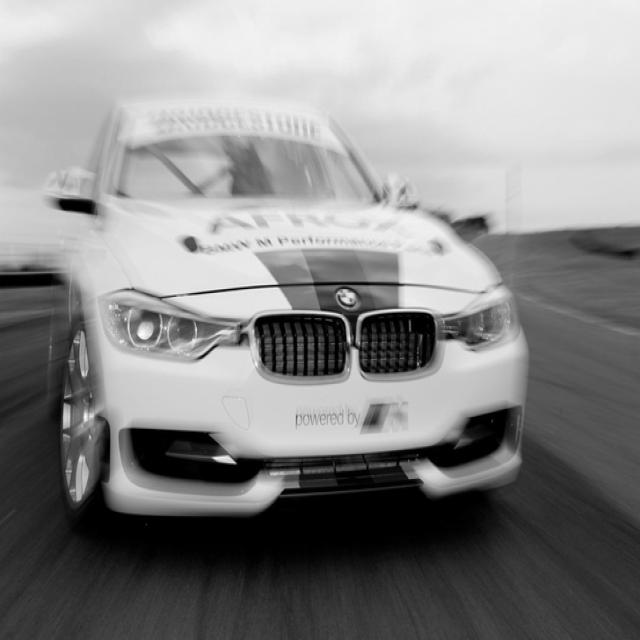car: (42, 95, 529, 527)
